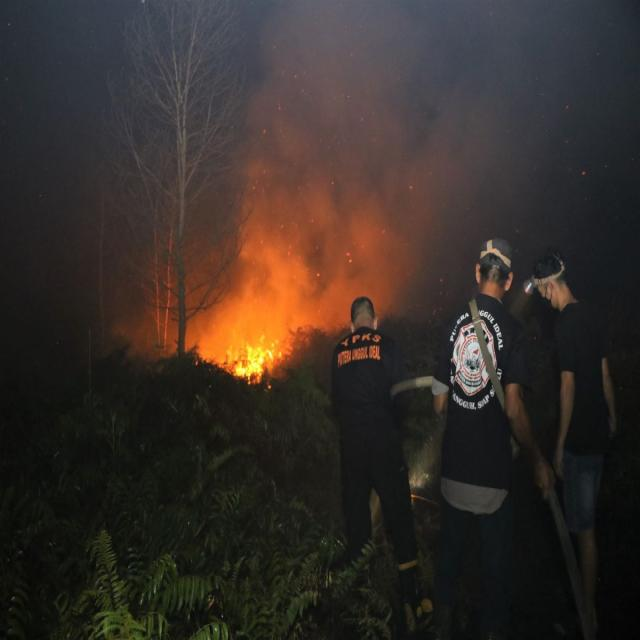fire: (226, 332, 277, 384)
